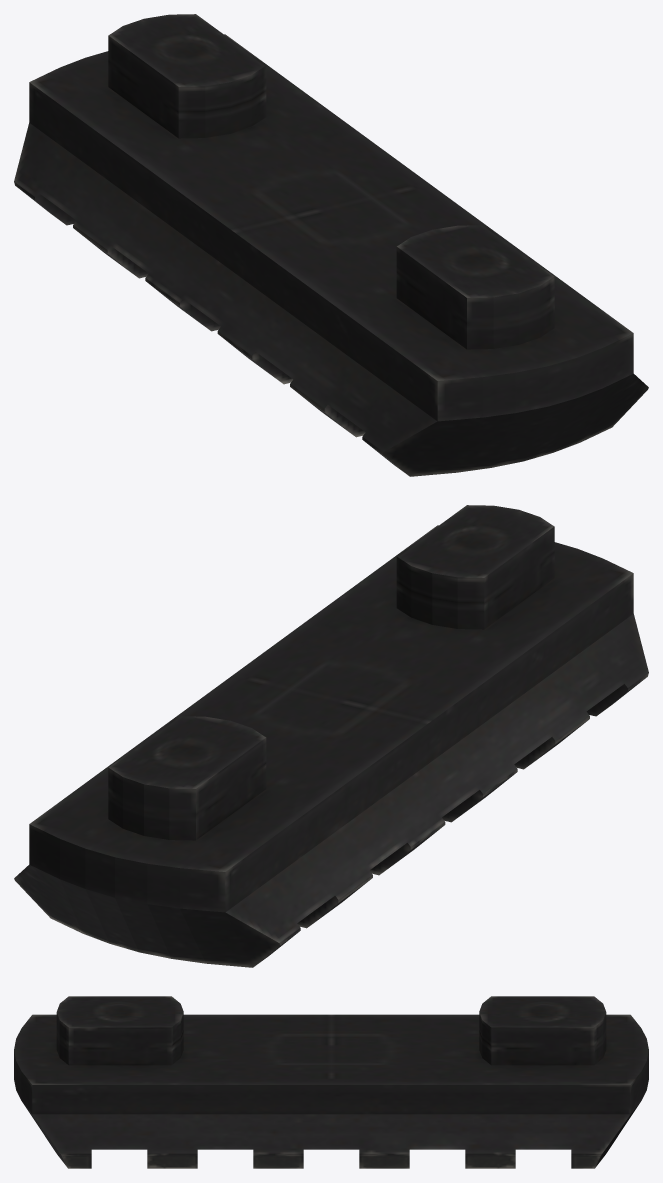
3 renders of one model, top to bottom at view 1: azimuth 30°, elevation 25°; view 2: azimuth 150°, elevation 25°; view 3: azimuth 270°, elevation 25°, orthographic. The views are drawn at different scales.
Visible parts, largest first — view 1: TW_5b7be47f5acfc400170e2dd2_PZ_Import; view 2: TW_5b7be47f5acfc400170e2dd2_PZ_Import; view 3: TW_5b7be47f5acfc400170e2dd2_PZ_Import.
Part boxes in pixels (left/top/right/bottom): TW_5b7be47f5acfc400170e2dd2_PZ_Import: left=14, top=14, right=648, bottom=476; TW_5b7be47f5acfc400170e2dd2_PZ_Import: left=14, top=505, right=648, bottom=967; TW_5b7be47f5acfc400170e2dd2_PZ_Import: left=14, top=996, right=648, bottom=1168.
Bounding box in the file's own units: 0.0123 × 0.0346 × 0.00727.
Materials: 1 (1 with a texture image).
